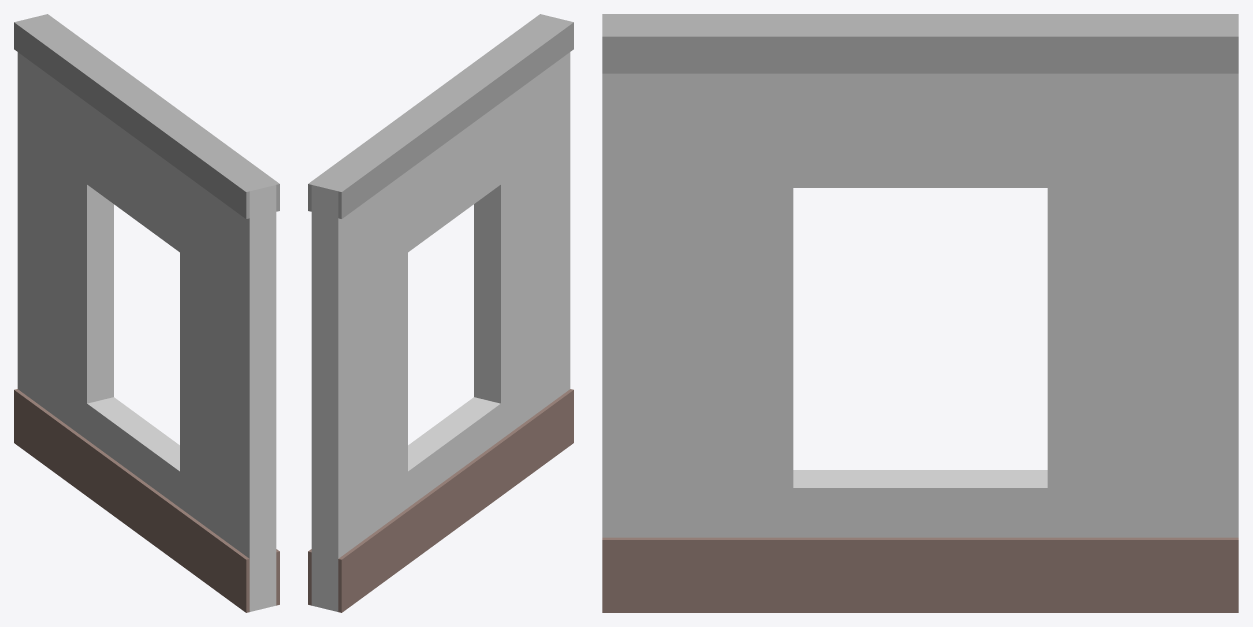
File: Wall04.fbx
3 renders of one model, left to right at view 1: azimuth 30°, elevation 25°; view 2: azimuth 150°, elevation 25°; view 3: azimuth 270°, elevation 25°, orthographic. The views are drawn at different scales.
Parts seen in each view (by area): view 1: Wall04; view 2: Wall04; view 3: Wall04.
Part boxes in pixels (left/top/right/bottom): Wall04: left=14, top=14, right=279, bottom=612; Wall04: left=308, top=14, right=573, bottom=612; Wall04: left=602, top=14, right=1238, bottom=612.
Size of the model in its own units: 0.2519 by 3 by 3.
